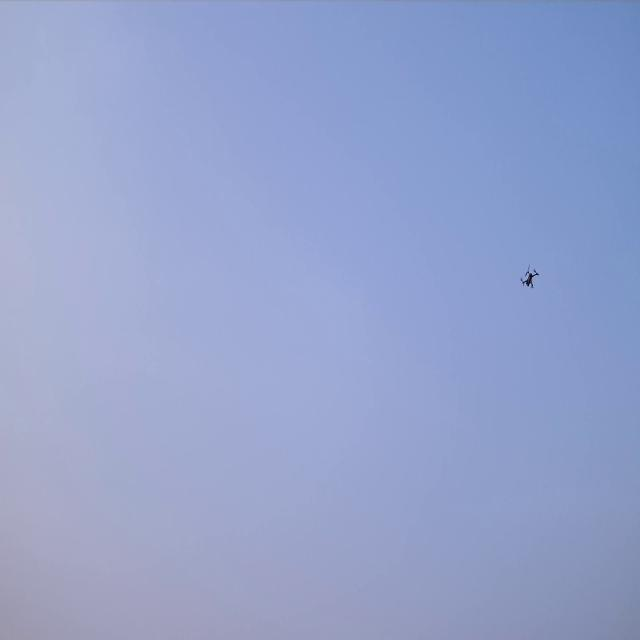UAV: (520, 264, 539, 289)
